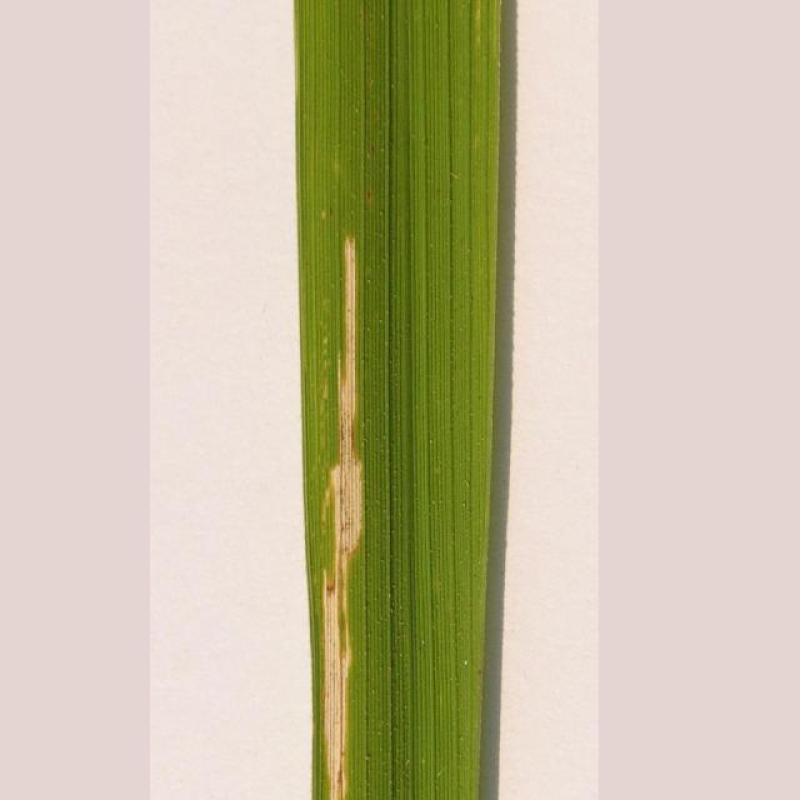Bacterial_Leaf_Blight: (285, 226, 387, 798)
